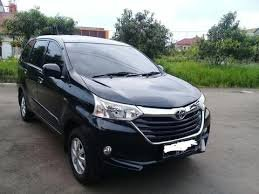mobil: (15, 31, 216, 190)
